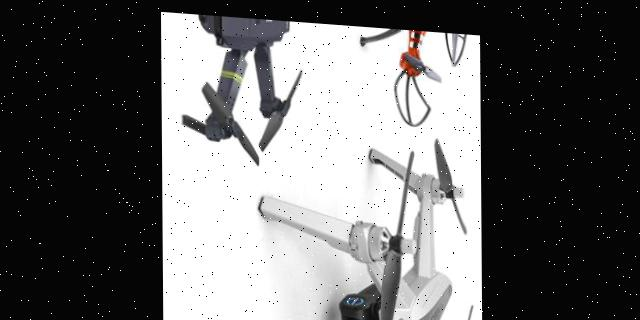drone: (160, 9, 310, 171)
